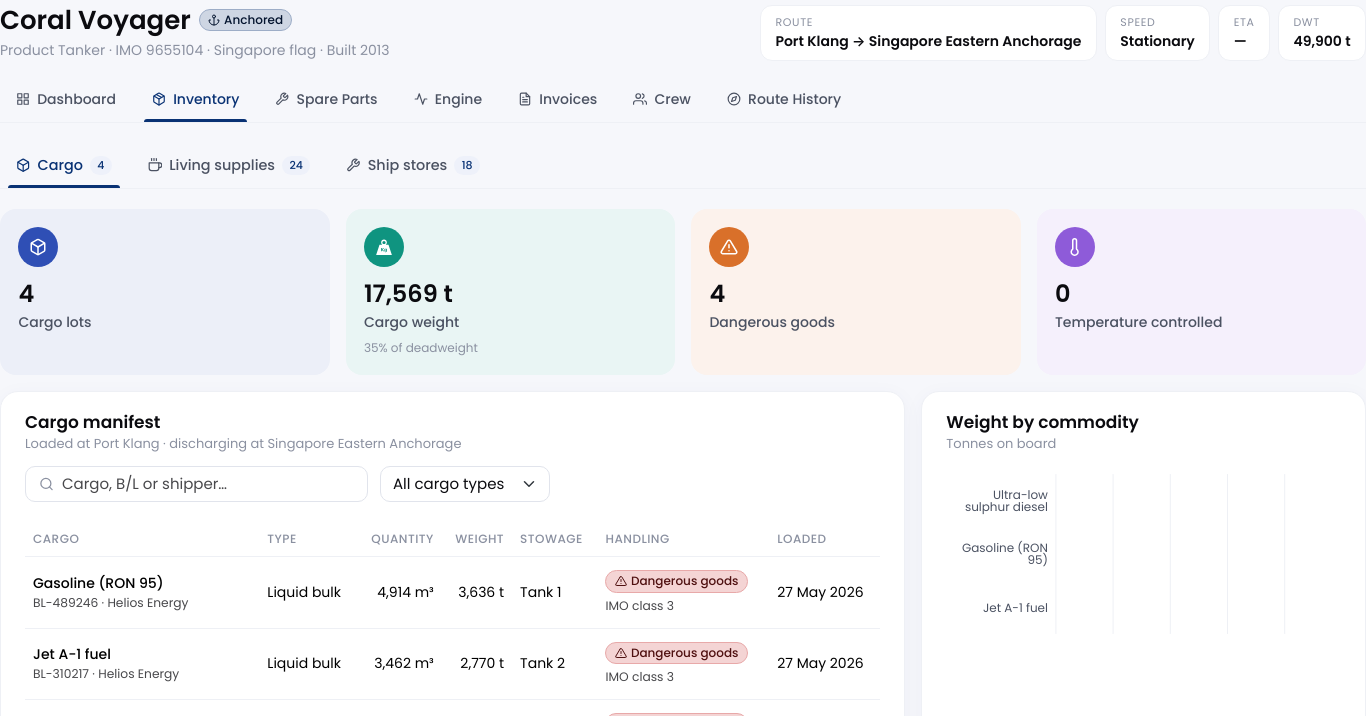
Scenario: inventory page › switches to living supplies
Click the tab "Living supplies 24". click: (229, 166)
box: [132, 143, 326, 188]
(page scrolled)
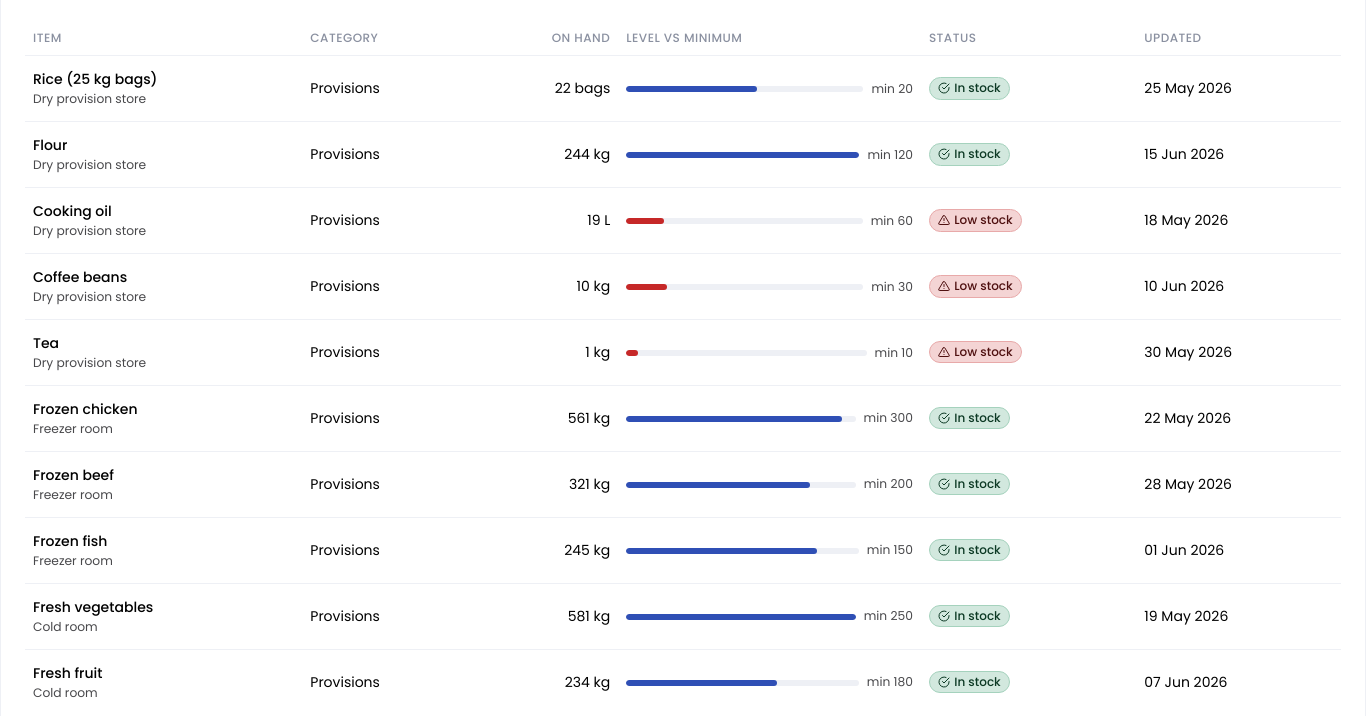
Result: the heading "Cargo manifest" is gone
